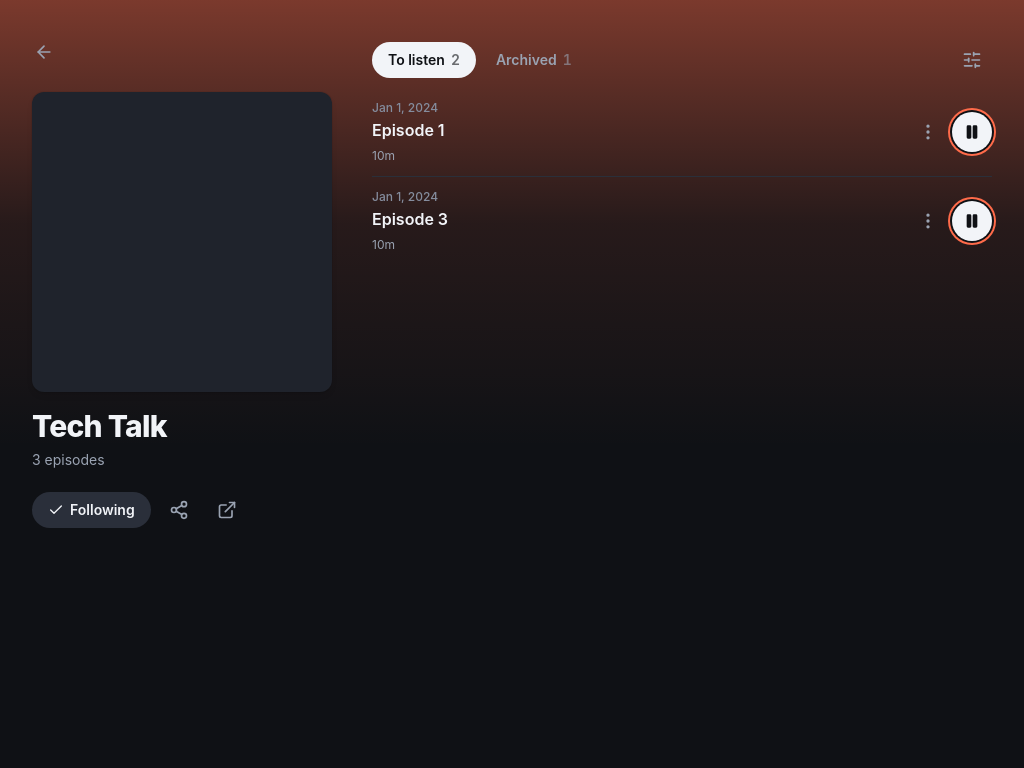
Test: PodcastPage › lists unplayed episodes and switches to archived ones
expect the heading "Tech Talk" is shown: met, box [32, 408, 167, 446]
expect the heading "Episode 1" is shown: met, box [372, 120, 445, 140]
Step 1. Click the tab "Archived1" → click(534, 60), box [480, 42, 588, 78]
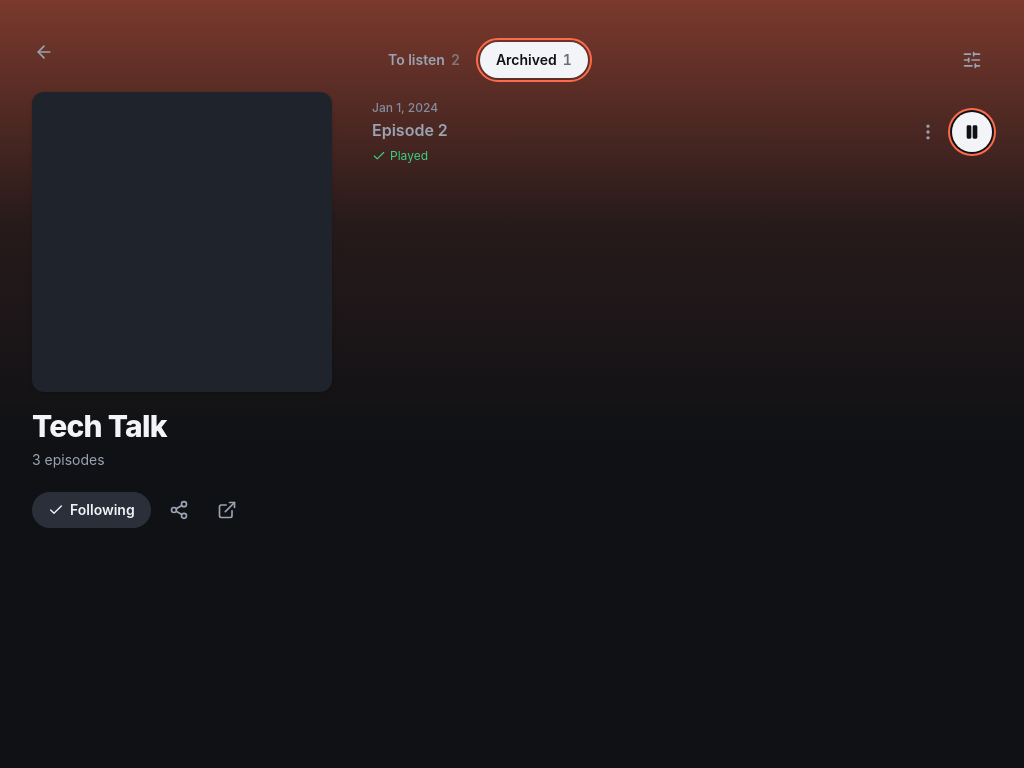
expect the heading "Episode 2" is shown: met, box [372, 120, 448, 140]
